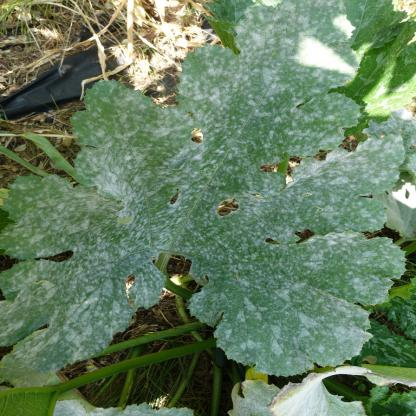squash powdery mildew leaf: (4, 0, 410, 389)
